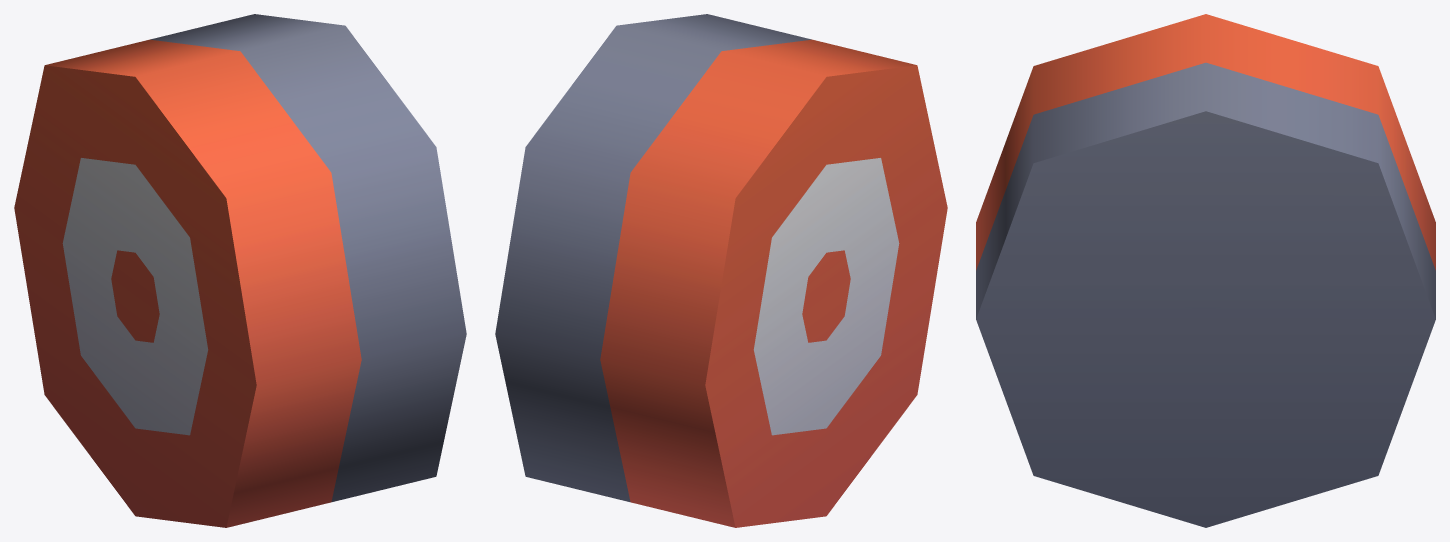
Rendered from target-small.glb.
3 renders of one model, left to right at view 1: azimuth 30°, elevation 25°; view 2: azimuth 150°, elevation 25°; view 3: azimuth 270°, elevation 25°, orthographic. The views are drawn at different scales.
Visible parts, largest first — view 1: target-small; view 2: target-small; view 3: target-small.
Boxes of the visible parts, x1=… form: target-small: x1=14, y1=14, x2=466, y2=527; target-small: x1=495, y1=14, x2=947, y2=527; target-small: x1=976, y1=14, x2=1435, y2=527.
Bounding box in the file's own units: 0.1 × 0.2 × 0.2.
Materials: 1 (1 with a texture image).
